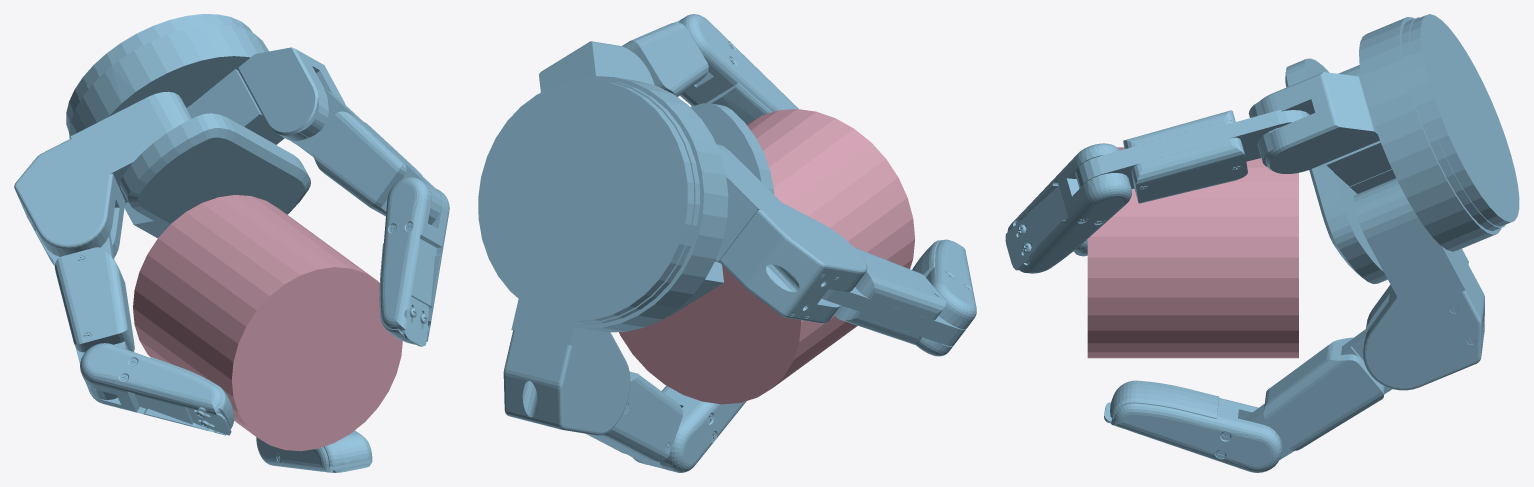
3 views of the same model, side by side, from view 1: azimuth 30°, elevation 25°; view 2: azimuth 150°, elevation 25°; view 3: azimuth 270°, elevation 25° (orthographic). The views are drawn at different scales.
Parts seen in each view (by area): view 1: world, cylinder_medium.stl; view 2: world, cylinder_medium.stl; view 3: world, cylinder_medium.stl.
Part boxes in pixels (x1,y1,x2,y2): world: (14,14,449,472); cylinder_medium.stl: (133,195,402,451); world: (478,14,976,472); cylinder_medium.stl: (619,109,914,404); world: (1005,14,1519,472); cylinder_medium.stl: (1087,147,1298,358).
Bounding box in the file's own units: 0.1502 × 0.1766 × 0.1946.
